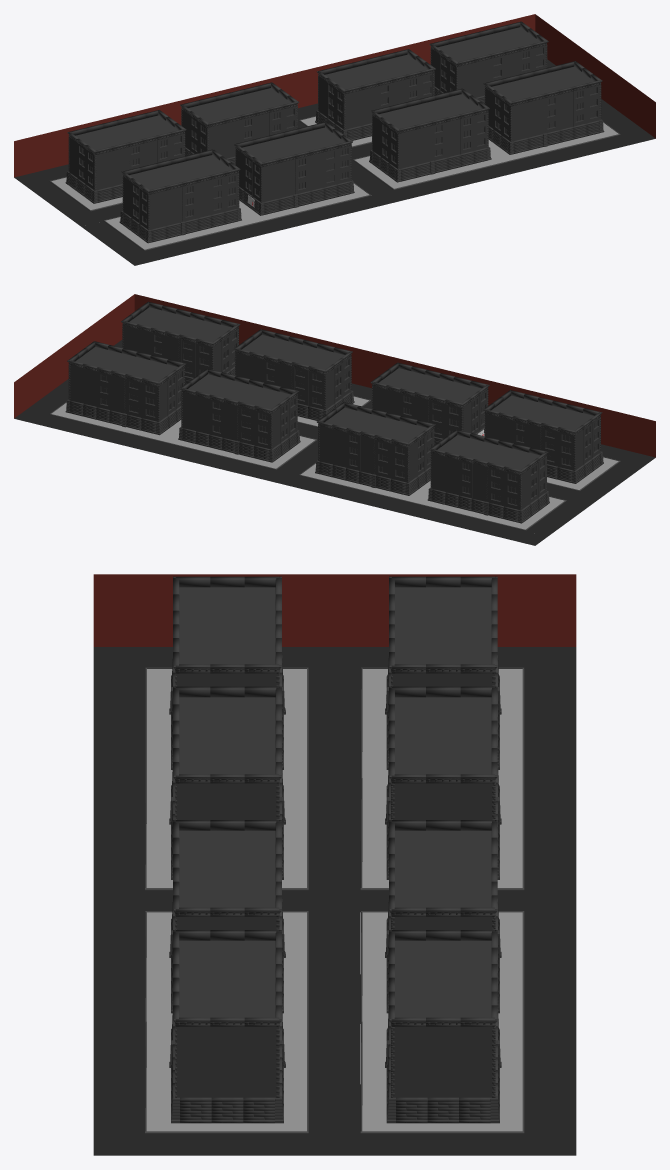
Rendered from location.fbx.
3 renders of one model, top to bottom at view 1: azimuth 30°, elevation 25°; view 2: azimuth 150°, elevation 25°; view 3: azimuth 270°, elevation 25°, orthographic. The views are drawn at different scales.
Visible parts, largest first — view 1: Plane.001, building_base.003, building_base.001, building_base.002, building_base, building_base.007, building_base.005, building_base.006, building_base.004, Плоскость.004, Плоскость.006, Плоскость.005 (+10 smaller); view 2: Plane.001, building_base.007, building_base.005, building_base.006, building_base.004, building_base.003, building_base.001, building_base.002, building_base, Плоскость.001, Плоскость.011, Плоскость.015 (+10 smaller); view 3: building_base.006, building_base.002, Plane.001, building_base.004, building_base, Плоскость, Плоскость.001, Плоскость.004, building_base.007, building_base.005, building_base.003, building_base.001 (+16 smaller).
Boxes of the visible parts, x1,y1,x2,y2 form: Plane.001: (14,14,655,177); building_base.003: (119,149,241,243); building_base.001: (369,88,491,182); building_base.002: (483,61,604,154); building_base: (234,122,354,215); building_base.007: (65,110,186,203); building_base.005: (315,49,435,140); building_base.006: (429,21,548,103); building_base.004: (180,82,299,164); Плоскость.004: (122,190,406,265); Плоскость.006: (394,135,632,199); Плоскость.005: (355,150,505,188); Plane.001: (14,294,655,457); building_base.007: (427,429,549,523); building_base.005: (178,368,300,462); building_base.006: (65,341,186,435); building_base.004: (315,402,435,495); building_base.003: (483,390,603,483); building_base.001: (234,329,354,420); building_base.002: (121,301,240,384); building_base: (370,362,489,444); Плоскость.001: (263,470,547,545); Плоскость.011: (37,414,275,479); Плоскость.015: (164,430,315,468); building_base.006: (385,930,501,1123); building_base.002: (169,930,285,1123); Plane.001: (93,574,576,646); building_base.004: (385,686,501,879); building_base: (169,686,285,879); Плоскость: (308,647,362,912); Плоскость.001: (524,647,576,912); Плоскость.004: (93,647,145,912); building_base.007: (385,576,501,769); building_base.005: (385,820,501,1013); building_base.003: (169,576,285,769); building_base.001: (169,820,285,1013).
Size of the model in its own units: 13880 by 1321 by 5568.
